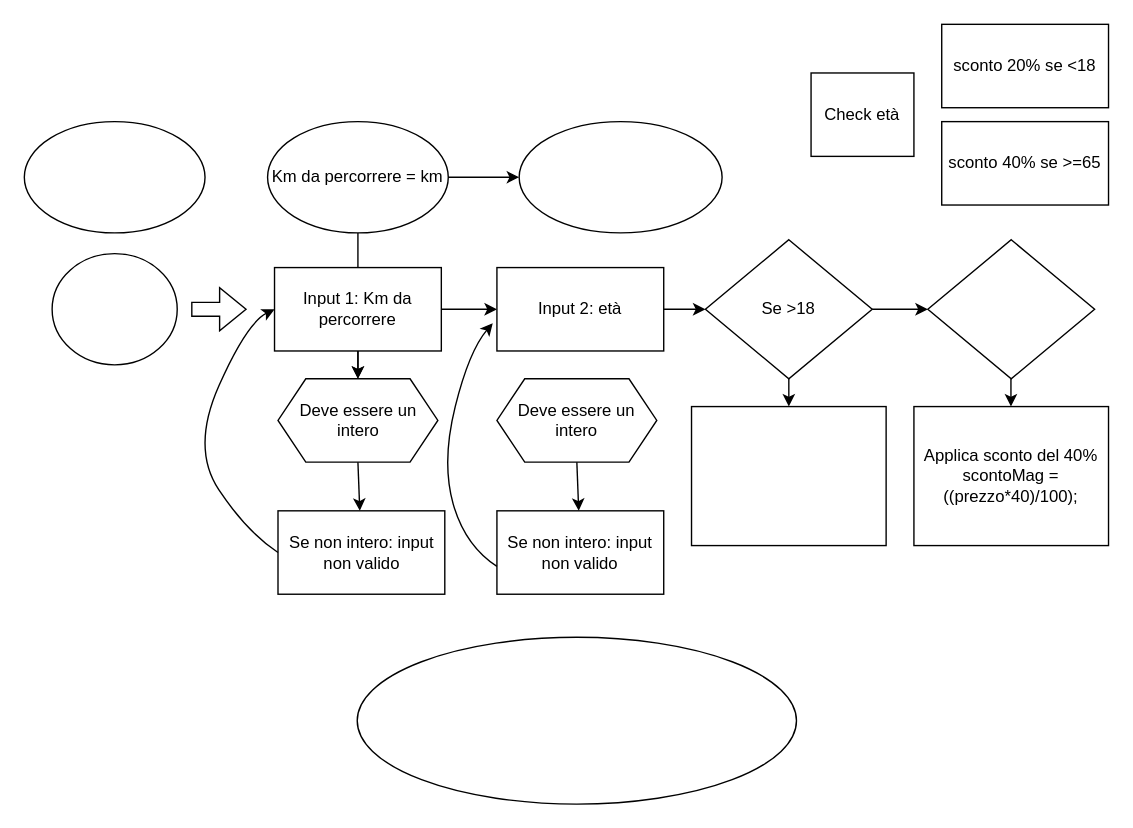
This 1133x828 diagram has some shape labels left out. The shapes that lost their labels are listed below. From the top down, each one's centre as x and y in pixels, then its label:
(x=114, y=176): prezzo = 0.21;
(x=620, y=176): prezzoKm = prezzo*km
(x=114, y=308): Calcolo del biglietto
(x=1010, y=308): Se >=65
(x=788, y=475): Applica sconto del 20% scontoMag = ((prezzo*20)/100);
(x=576, y=720): prezzoFinale = prezzoKm - scontoMag - scontoEld;
